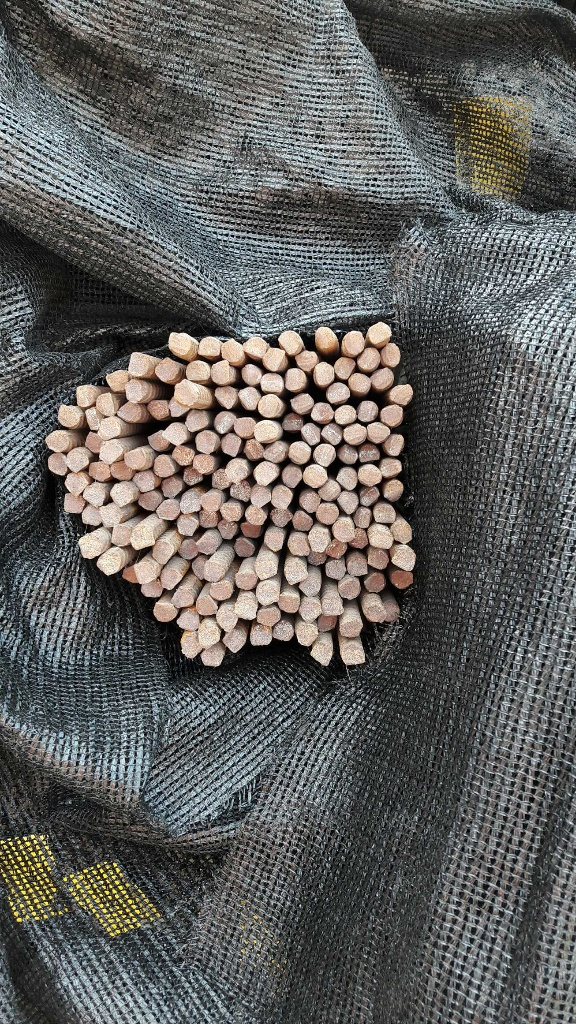dipstick: (55, 404, 82, 428), (234, 593, 257, 621), (255, 419, 280, 444), (167, 331, 193, 355), (283, 558, 307, 584), (278, 330, 303, 354), (210, 360, 234, 385), (173, 380, 197, 405), (155, 358, 179, 383), (367, 322, 393, 345), (77, 536, 103, 559), (253, 462, 279, 485), (178, 633, 201, 659), (303, 465, 329, 488), (199, 621, 220, 649), (216, 604, 237, 632), (313, 326, 336, 351), (186, 360, 211, 383), (256, 580, 279, 605), (368, 526, 393, 549), (391, 547, 416, 570), (289, 440, 311, 466), (62, 473, 88, 495), (129, 527, 157, 547), (221, 339, 244, 363), (261, 347, 284, 371), (342, 331, 365, 355), (213, 386, 237, 409), (194, 430, 217, 454), (162, 423, 187, 445), (181, 489, 203, 514), (223, 629, 245, 654), (336, 467, 358, 492), (286, 534, 311, 556), (129, 351, 148, 379), (357, 347, 380, 370), (290, 392, 313, 415), (110, 483, 133, 506), (316, 502, 339, 525), (298, 599, 321, 622), (198, 336, 222, 358), (310, 402, 334, 424), (389, 384, 413, 406), (257, 395, 281, 417), (313, 443, 335, 467), (98, 440, 122, 462), (254, 557, 278, 579), (331, 520, 355, 542), (367, 546, 389, 570), (338, 576, 360, 600), (242, 337, 267, 358), (152, 540, 173, 565), (200, 646, 225, 667), (117, 402, 143, 422), (371, 368, 394, 390), (261, 372, 284, 394), (232, 417, 255, 439), (67, 451, 90, 473), (364, 570, 386, 593), (313, 361, 334, 385), (343, 425, 367, 446), (263, 442, 287, 463), (238, 386, 259, 410), (213, 411, 234, 435), (98, 418, 122, 439), (46, 452, 67, 476), (97, 552, 118, 576), (358, 464, 382, 485), (297, 623, 318, 647), (311, 641, 332, 665), (155, 500, 180, 520), (334, 357, 356, 379), (185, 409, 207, 431), (46, 430, 68, 452), (153, 454, 175, 476), (197, 507, 219, 529), (195, 595, 217, 617), (298, 491, 320, 513), (380, 405, 403, 426), (241, 363, 262, 386), (380, 458, 403, 479), (124, 379, 145, 402), (95, 392, 116, 415), (89, 461, 112, 482), (161, 476, 182, 499), (161, 567, 182, 590), (226, 460, 249, 481), (251, 485, 272, 508), (244, 504, 267, 525), (176, 610, 199, 631), (383, 479, 404, 502), (391, 569, 414, 590), (348, 373, 372, 393), (325, 383, 349, 403), (75, 384, 95, 408), (152, 603, 176, 623), (269, 507, 293, 527), (338, 491, 358, 515), (309, 528, 329, 552), (111, 462, 136, 481), (335, 404, 357, 425), (321, 425, 343, 446), (367, 422, 389, 443), (105, 370, 127, 391), (80, 505, 101, 527), (133, 470, 155, 491), (111, 525, 132, 547), (374, 503, 396, 524), (347, 556, 369, 577), (124, 449, 147, 469), (133, 563, 156, 583), (176, 516, 199, 536), (171, 590, 194, 610), (209, 580, 232, 600), (234, 571, 257, 591), (249, 626, 272, 646), (272, 485, 292, 508), (358, 486, 381, 506), (322, 596, 345, 616), (145, 400, 169, 419), (341, 644, 365, 663), (222, 432, 239, 458), (295, 350, 316, 371), (84, 485, 105, 506), (62, 493, 83, 514), (230, 481, 251, 502), (292, 510, 313, 531), (299, 575, 320, 596), (284, 368, 304, 390), (244, 438, 264, 460), (172, 446, 194, 466), (192, 454, 214, 474), (139, 490, 161, 510), (340, 618, 362, 638), (364, 604, 386, 624), (219, 502, 242, 521), (257, 608, 280, 627), (384, 342, 401, 367), (357, 401, 377, 422), (300, 425, 320, 446), (147, 430, 168, 450), (217, 519, 237, 540), (273, 622, 294, 642), (278, 593, 299, 613), (319, 481, 340, 501), (392, 524, 413, 544), (326, 559, 346, 580), (282, 465, 301, 487), (385, 433, 403, 456), (337, 444, 357, 464), (203, 561, 223, 581), (283, 413, 302, 434), (168, 396, 189, 415), (99, 506, 120, 525), (234, 539, 255, 558), (85, 407, 102, 430), (355, 506, 372, 529), (183, 466, 203, 485), (211, 469, 230, 489), (318, 613, 337, 633), (359, 445, 380, 463), (265, 530, 283, 551), (327, 540, 348, 558), (141, 581, 163, 598), (350, 529, 368, 549), (85, 431, 101, 453), (190, 558, 205, 581), (202, 493, 221, 511), (196, 538, 216, 555), (121, 567, 138, 586), (180, 540, 197, 559), (307, 549, 327, 565), (383, 602, 399, 622), (241, 521, 260, 537)
